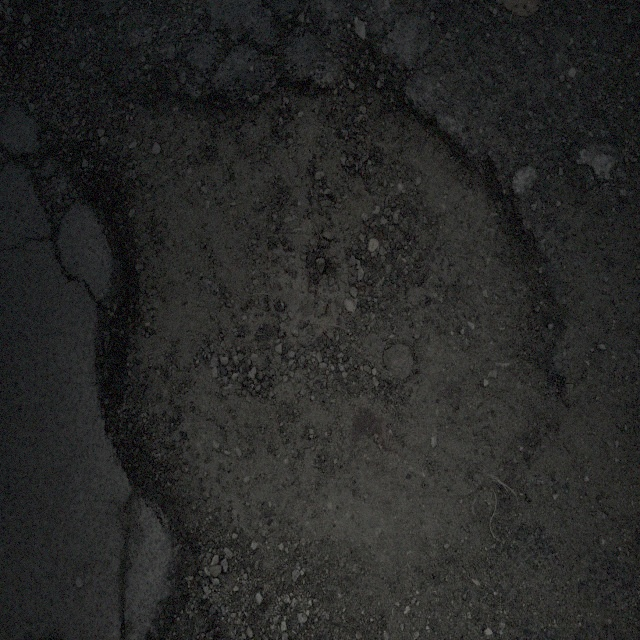pothole: (69, 49, 570, 584)
